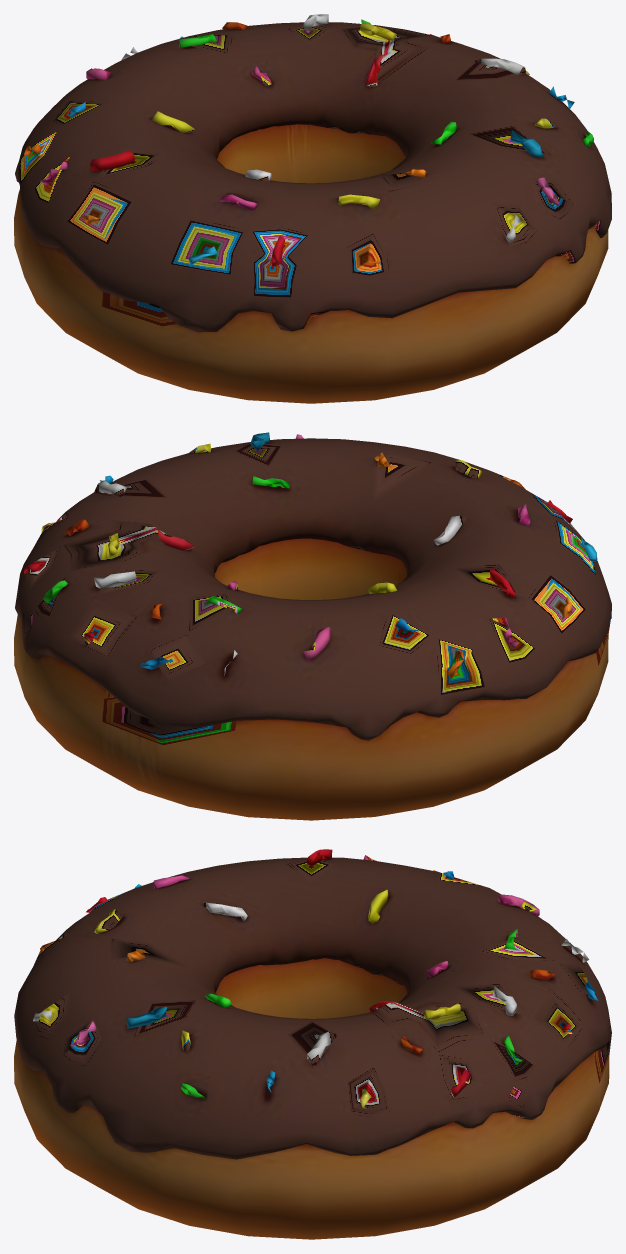
File: donut-glazed.glb
3 views of the same model, one above another, from view 1: azimuth 30°, elevation 25°; view 2: azimuth 150°, elevation 25°; view 3: azimuth 270°, elevation 25° (orthographic).
Size of the model in its own units: 0.9957 by 0.3801 by 1.
Materials: 1 (1 with a texture image).
